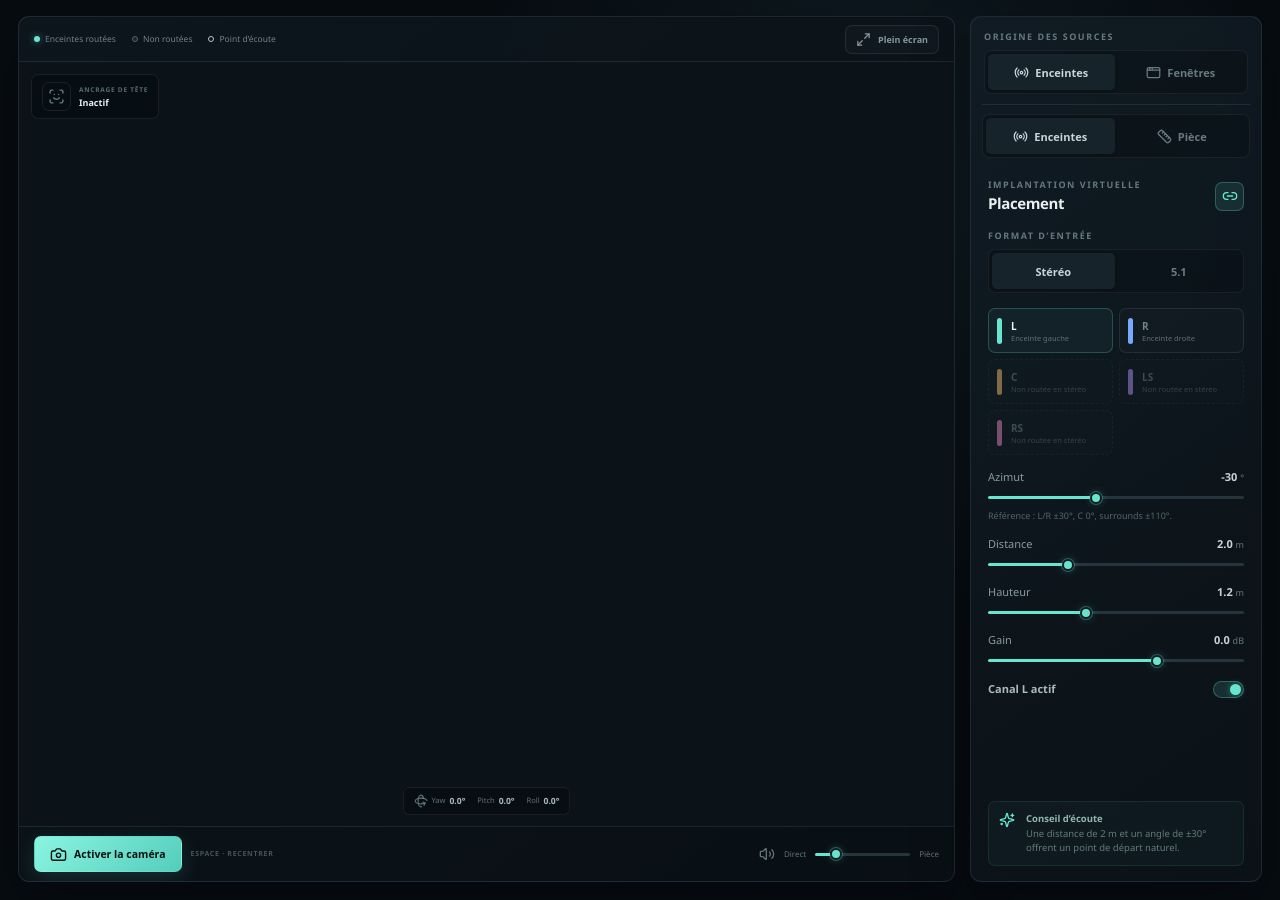
Test: éditeur d’implantation 5.1 › active le 5.1 uniquement avec la capture externe exacte et expose le LFE
The width and height of the screenshot is (1280, 900).
Click the radio button labelled "5.1": coordinates (1179, 271) [1118,253,1240,289]
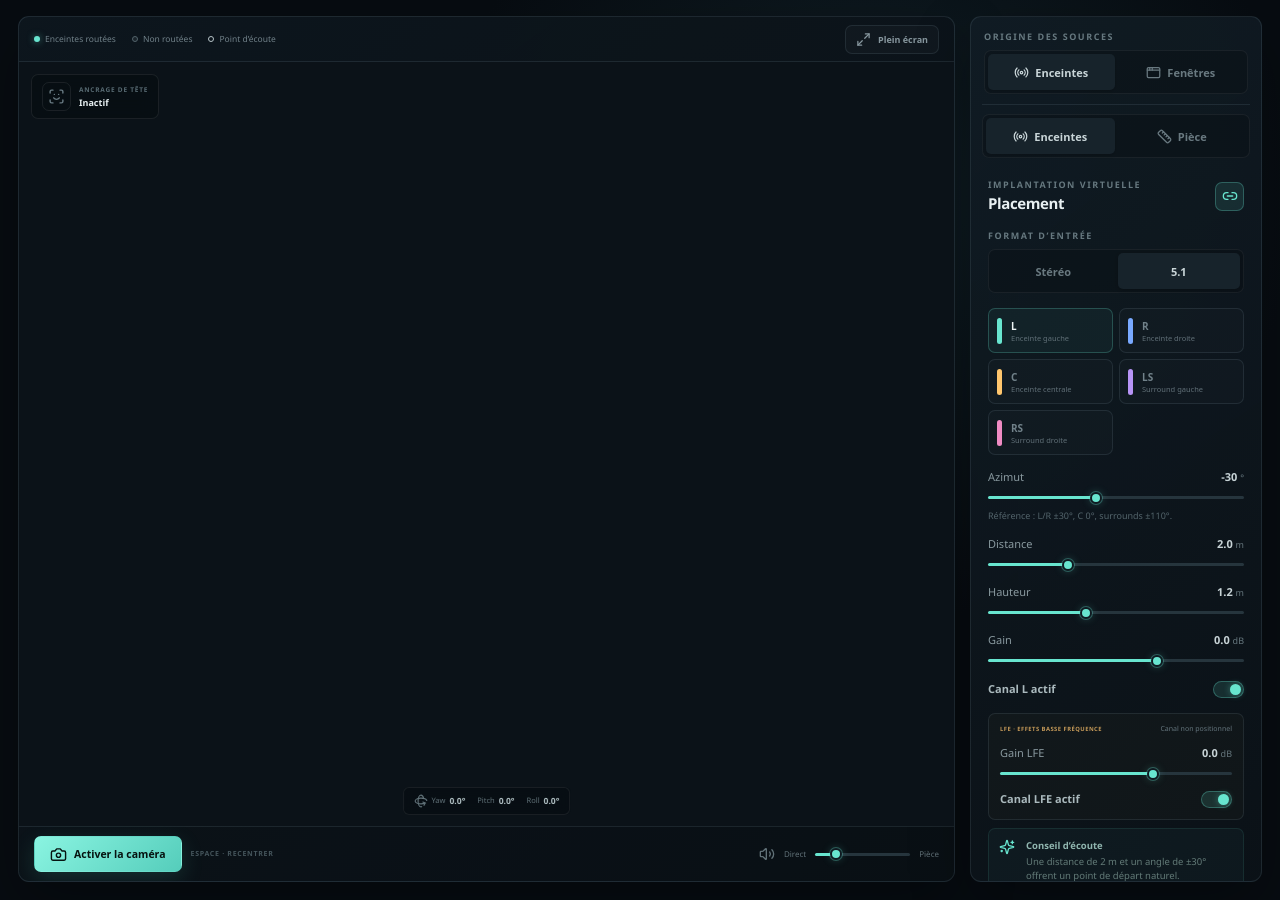
Check: the text "LFE · EFFETS BASSE FRÉQUENCE" is shown, box [1000,725,1102,734]
Check: the checkbox labelled "Canal LFE actif" is checked, box [1000,791,1232,808]
